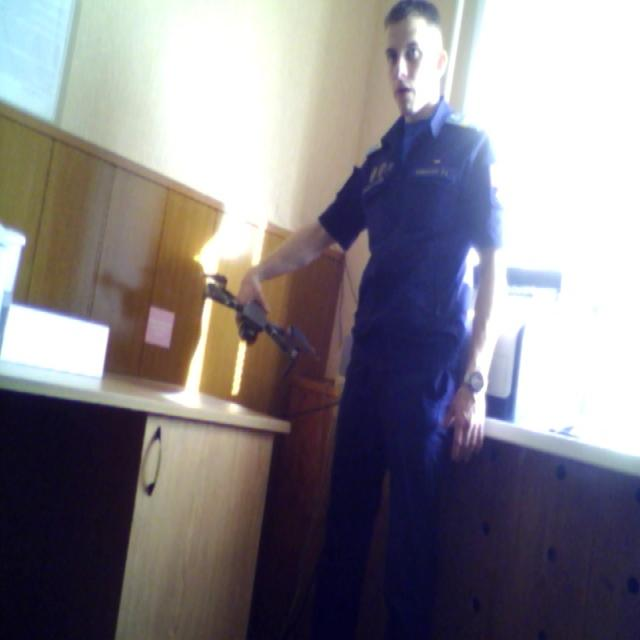drone: (195, 256, 316, 385)
